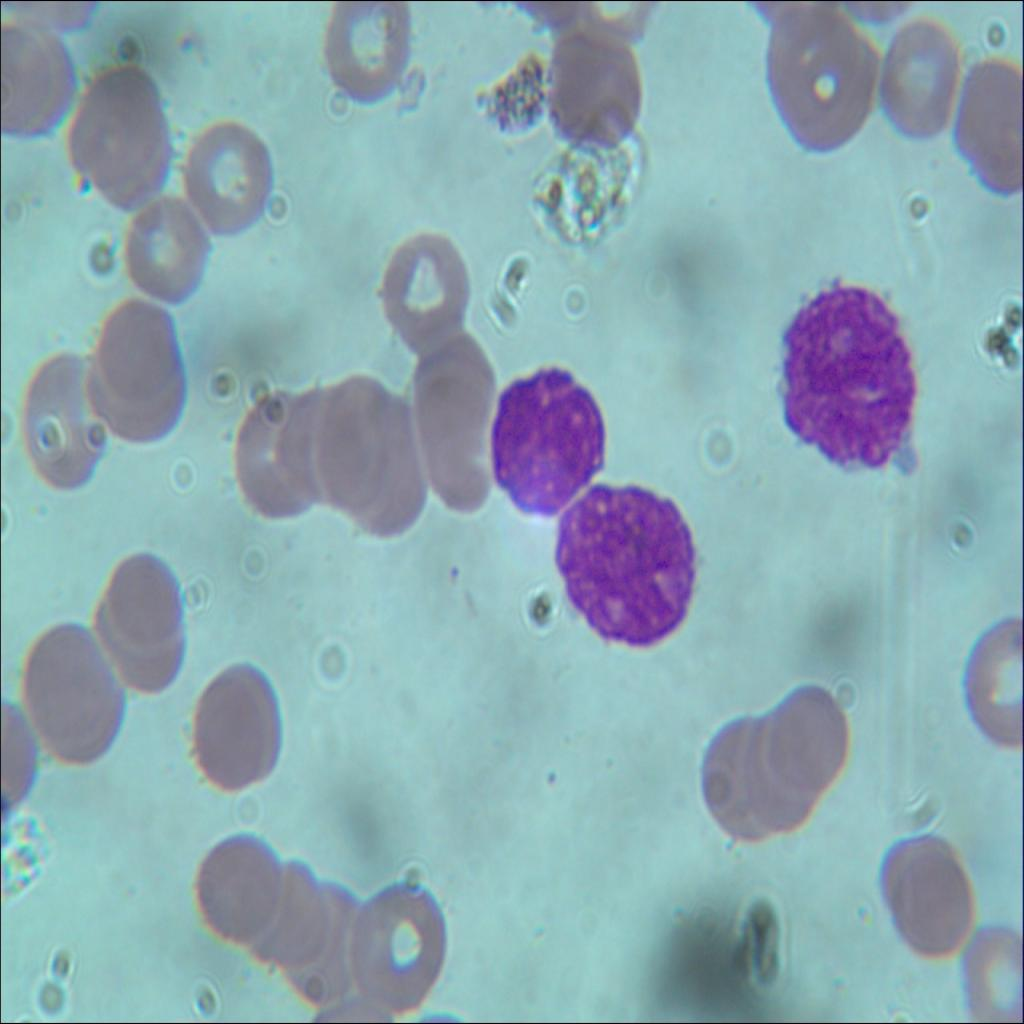Eritrosit: (399, 330, 501, 524), (69, 56, 175, 200), (94, 290, 188, 444), (769, 20, 876, 154), (344, 879, 448, 1015), (26, 627, 126, 761), (21, 351, 111, 495), (551, 23, 646, 158), (189, 658, 283, 794), (301, 372, 393, 509), (881, 824, 975, 954), (759, 677, 849, 812), (349, 394, 430, 538), (0, 10, 81, 152), (698, 710, 786, 840), (228, 388, 318, 514), (382, 225, 471, 352), (284, 877, 368, 1008), (176, 120, 270, 237), (318, 0, 408, 118), (878, 15, 951, 148), (112, 202, 206, 304), (195, 828, 281, 938), (959, 54, 1023, 198), (99, 550, 184, 651), (961, 612, 1023, 742), (246, 855, 322, 958), (956, 922, 1023, 1023)
Limfoblast: (766, 278, 921, 484), (558, 479, 696, 655), (490, 365, 606, 528)
Platelet: (448, 559, 462, 583)
